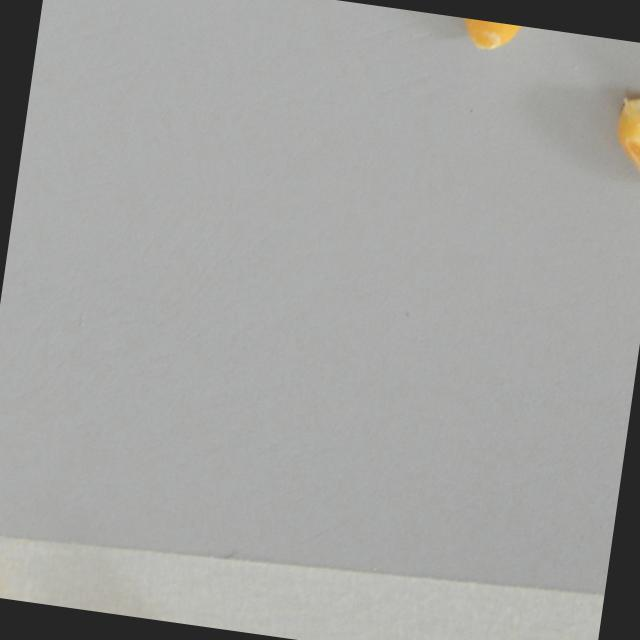pelicula: (440, 14, 560, 71), (600, 87, 640, 190)
